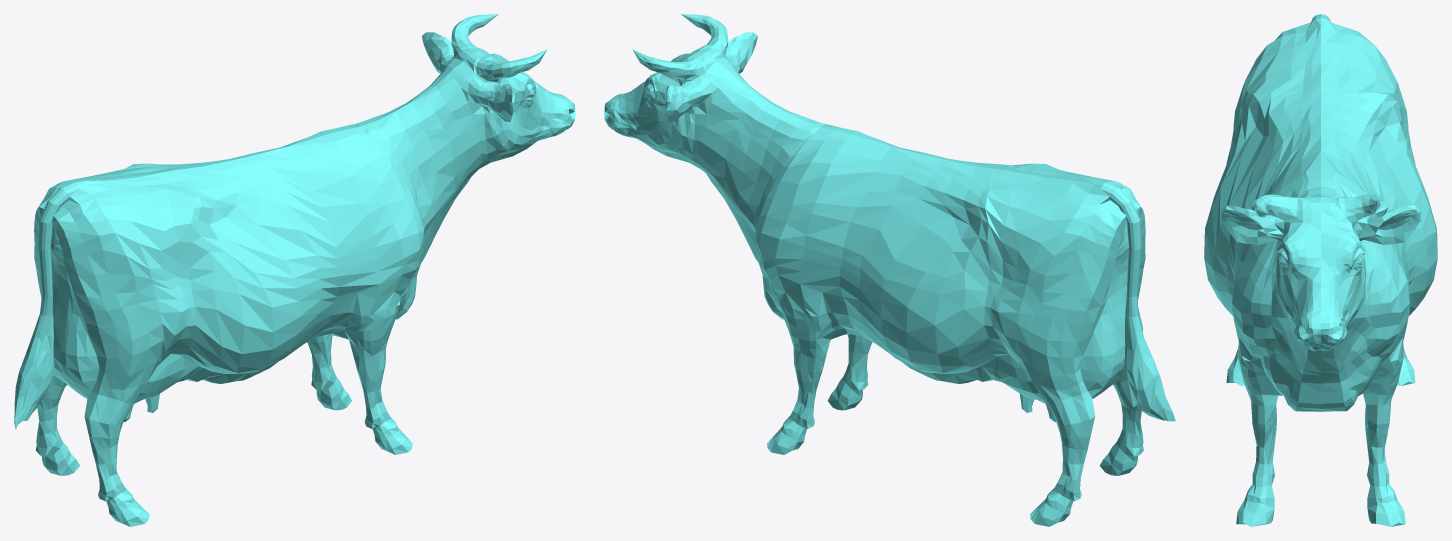
The model's file is cow.obj.
The picture shows the model from 3 angles, left to right: view 1: azimuth 30°, elevation 25°; view 2: azimuth 150°, elevation 25°; view 3: azimuth 270°, elevation 25°; orthographic projection. The views are drawn at different scales.
Bounding box in the file's own units: 4.6 × 2.82 × 1.5.
